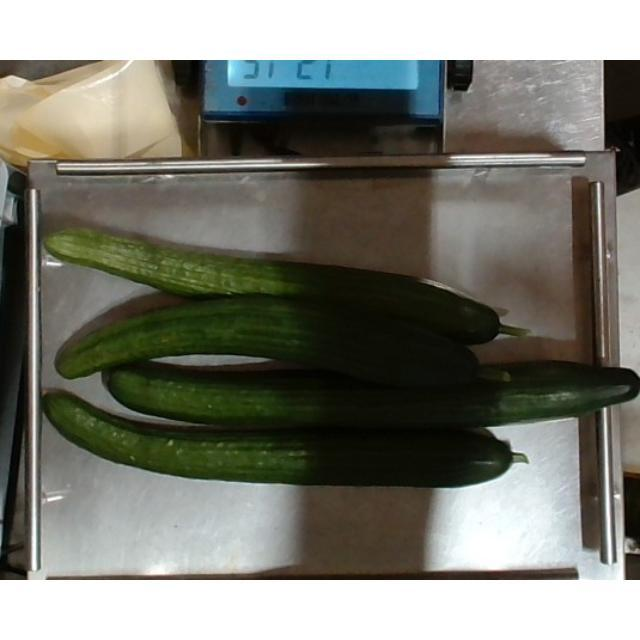cucumber: (39, 222, 527, 344), (43, 385, 529, 491), (54, 300, 514, 386), (97, 360, 638, 428)
